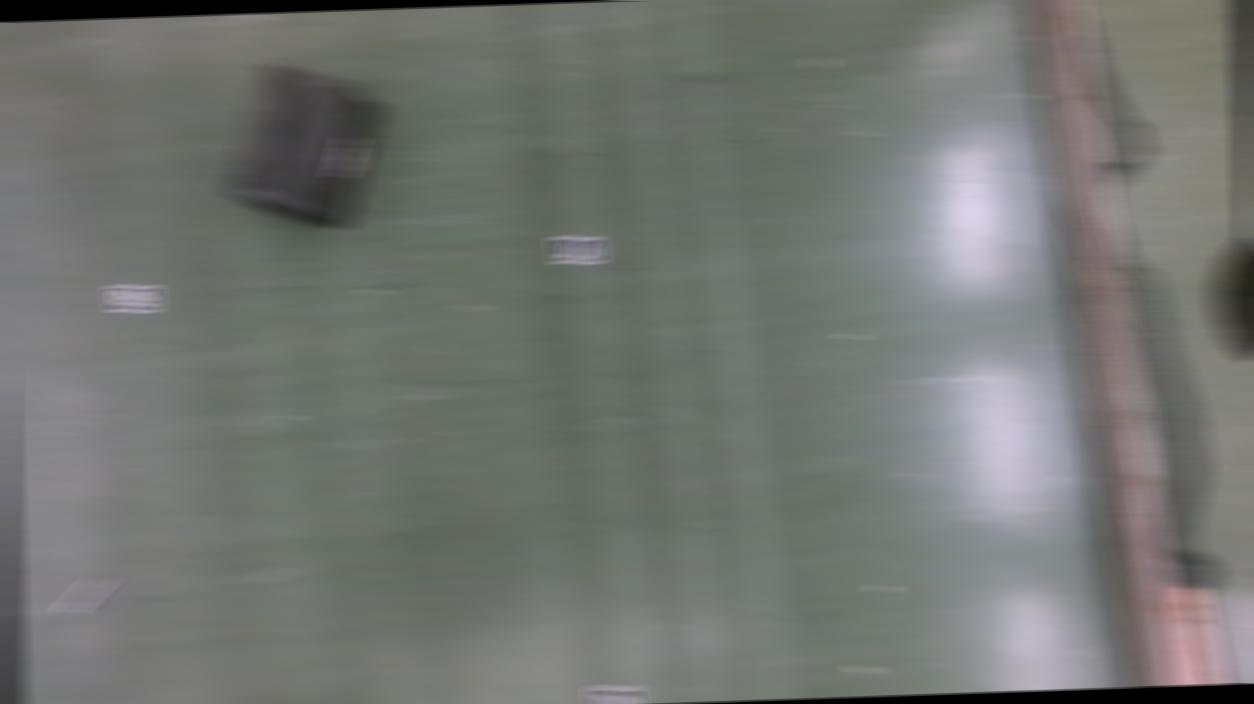probes: (60, 575, 112, 613)
rako: (226, 63, 381, 227)
